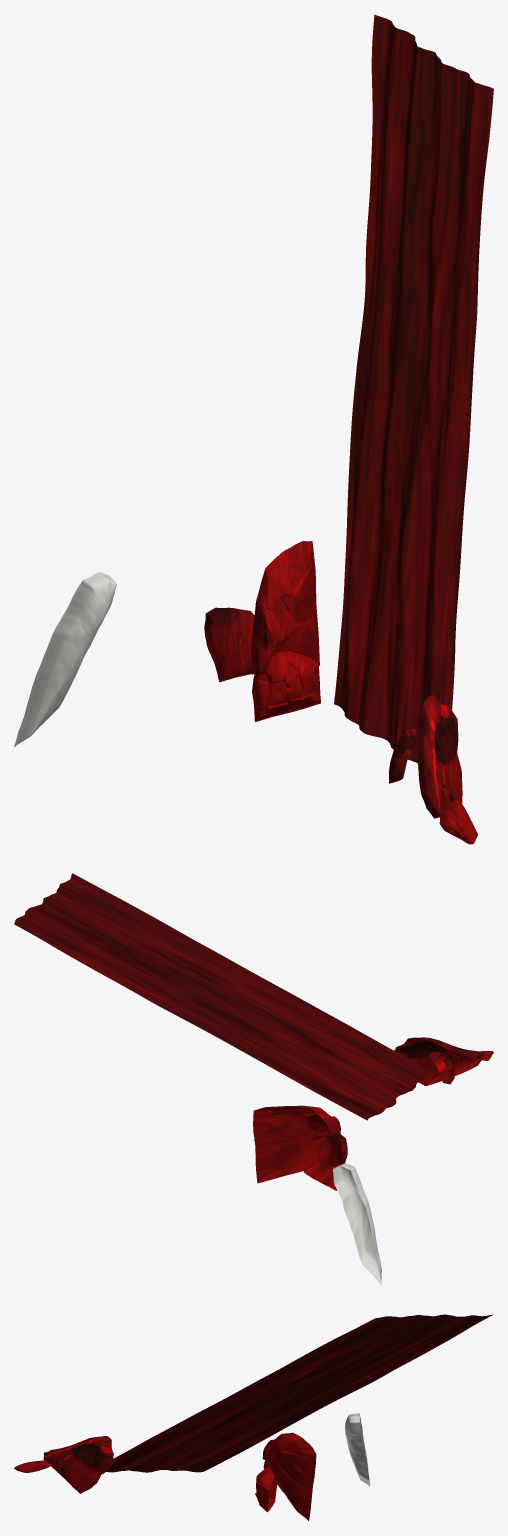
The model's file is lobes.glb.
3 views of the same model, one above another, from view 1: azimuth 30°, elevation 25°; view 2: azimuth 150°, elevation 25°; view 3: azimuth 270°, elevation 25° (orthographic). The views are drawn at different scales.
Visible parts, largest first — view 1: lobe_wall_b, lobe_m4, fade_pine_rock, lobe_d1, lobe_m5, lobe_base, lobe_d0; view 2: lobe_wall_b, lobe_m4, fade_pine_rock, lobe_d1, lobe_base, lobe_d2; view 3: lobe_wall_b, lobe_m4, lobe_d1, fade_pine_rock, lobe_m5, lobe_d0.
Boxes of the visible parts, bbox=[...] form: lobe_wall_b: bbox=[334, 14, 493, 763]; lobe_m4: bbox=[251, 541, 319, 674]; fade_pine_rock: bbox=[14, 572, 116, 746]; lobe_d1: bbox=[417, 694, 462, 818]; lobe_m5: bbox=[252, 651, 320, 721]; lobe_base: bbox=[204, 607, 254, 682]; lobe_d0: bbox=[439, 800, 477, 844]; lobe_wall_b: bbox=[14, 873, 429, 1120]; lobe_m4: bbox=[253, 1105, 340, 1183]; fade_pine_rock: bbox=[333, 1163, 381, 1284]; lobe_d1: bbox=[394, 1037, 485, 1085]; lobe_base: bbox=[315, 1133, 347, 1178]; lobe_d2: bbox=[428, 1051, 454, 1084]; lobe_wall_b: bbox=[106, 1314, 493, 1472]; lobe_m4: bbox=[262, 1432, 316, 1520]; lobe_d1: bbox=[43, 1436, 113, 1493]; fade_pine_rock: bbox=[345, 1413, 370, 1486]; lobe_m5: bbox=[255, 1467, 277, 1512]; lobe_d0: bbox=[14, 1460, 52, 1472].
Bounding box in the file's own units: 28.48 × 30.21 × 43.66.
9 materials, 8 textured.
